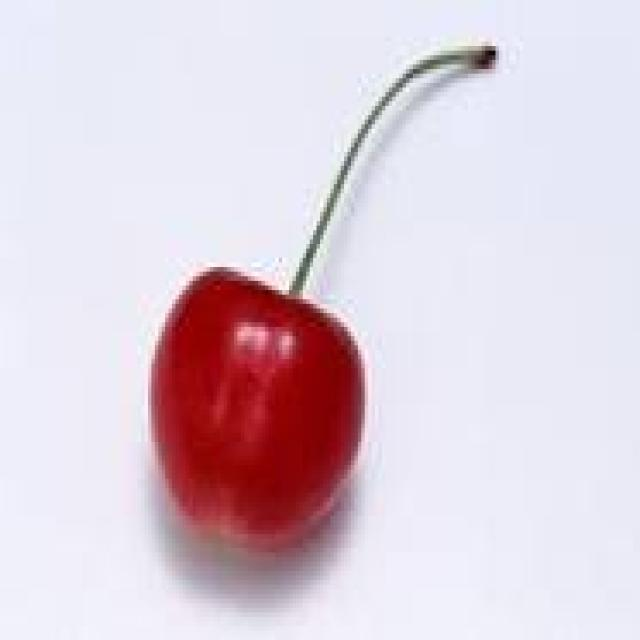cherry: (130, 249, 396, 571)
